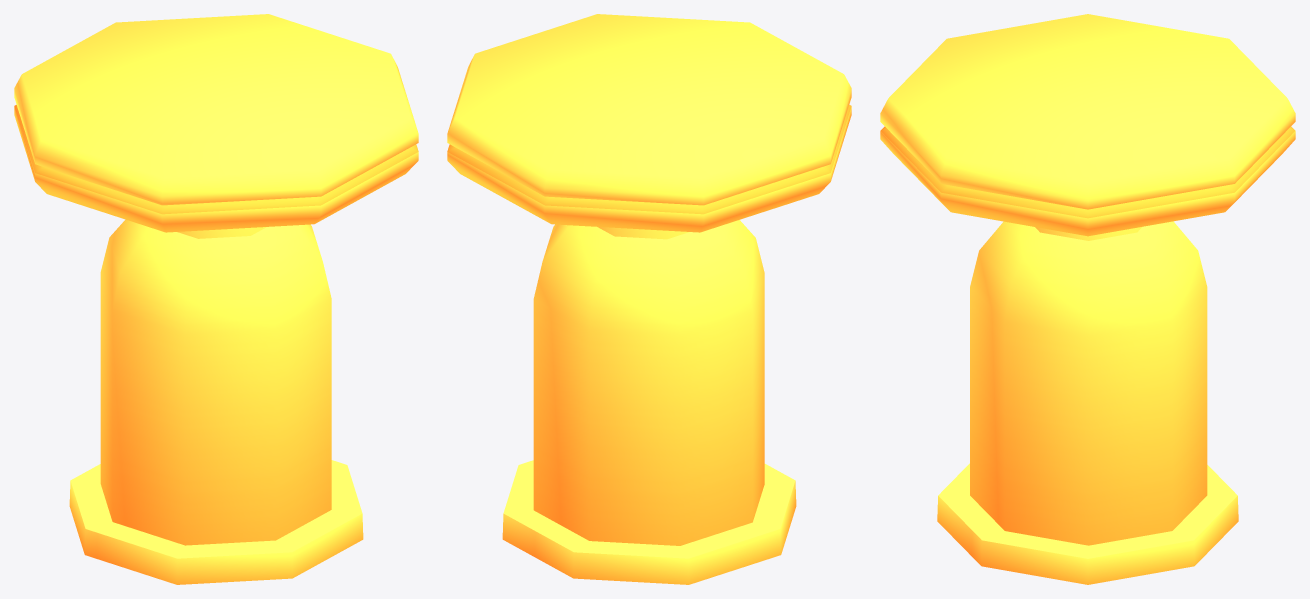
File: gold_grip_013.glb
3 views of the same model, side by side, from view 1: azimuth 30°, elevation 25°; view 2: azimuth 150°, elevation 25°; view 3: azimuth 270°, elevation 25° (orthographic).
Visible parts, largest first — view 1: gold_grip_013; view 2: gold_grip_013; view 3: gold_grip_013.
Part boxes in pixels (x1,y1,x2,y2): gold_grip_013: (14,14,418,584); gold_grip_013: (447,14,851,584); gold_grip_013: (880,14,1295,584).
Size of the model in its own units: 2.94 by 3.31 by 2.94.
1 material, 1 textured.
